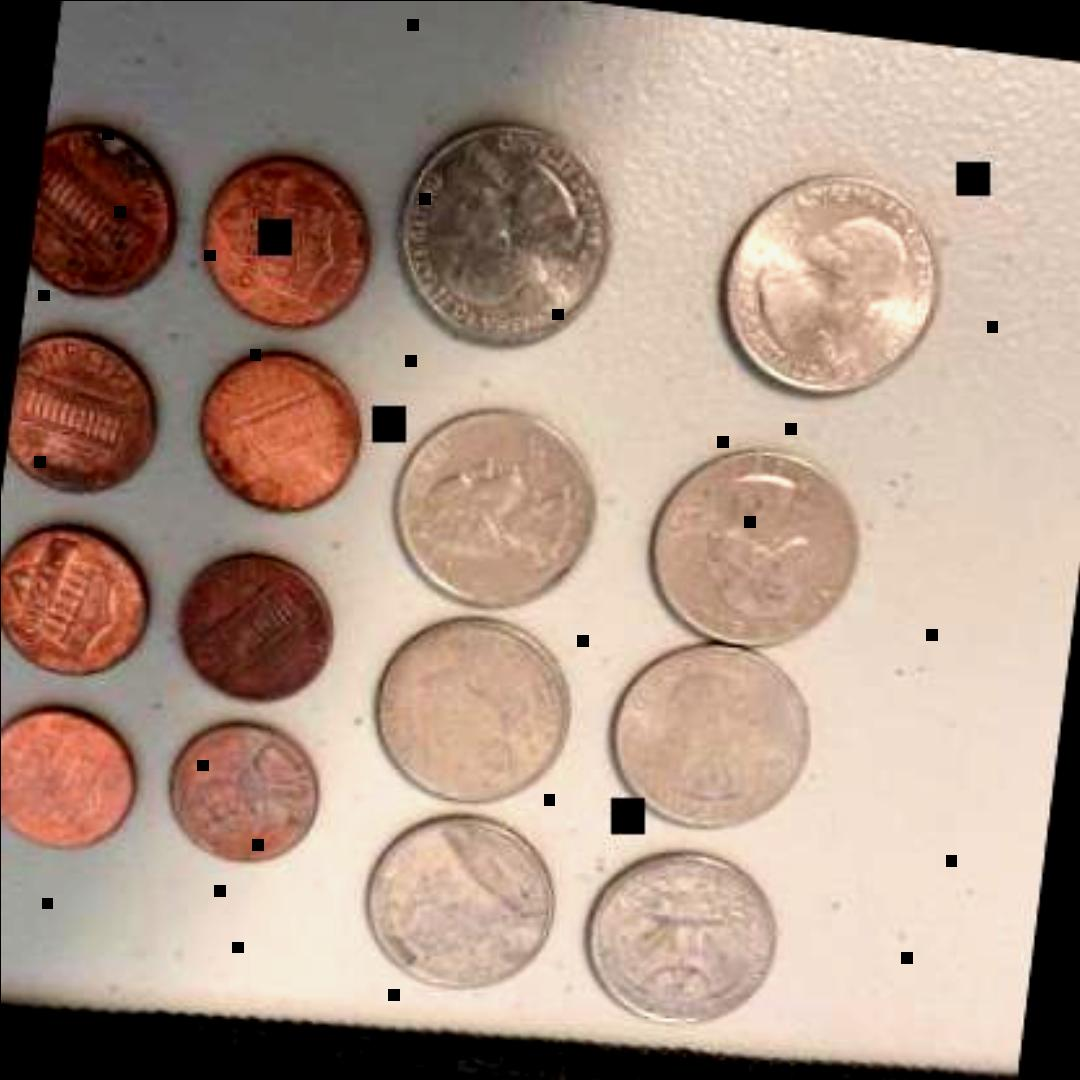Penny: (190, 142, 382, 340), (184, 337, 373, 523), (164, 538, 344, 716), (26, 122, 186, 308), (0, 509, 160, 685), (153, 712, 326, 874), (2, 329, 157, 505), (1, 694, 148, 862)
Quarter: (707, 152, 951, 406), (386, 115, 622, 361), (382, 396, 608, 622), (639, 437, 870, 655), (365, 602, 583, 820), (598, 631, 822, 841), (571, 845, 791, 1039), (355, 805, 565, 1002)
